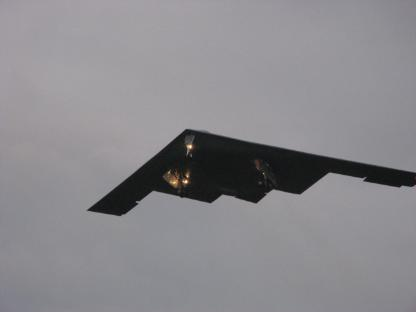B1: (86, 128, 414, 216)
